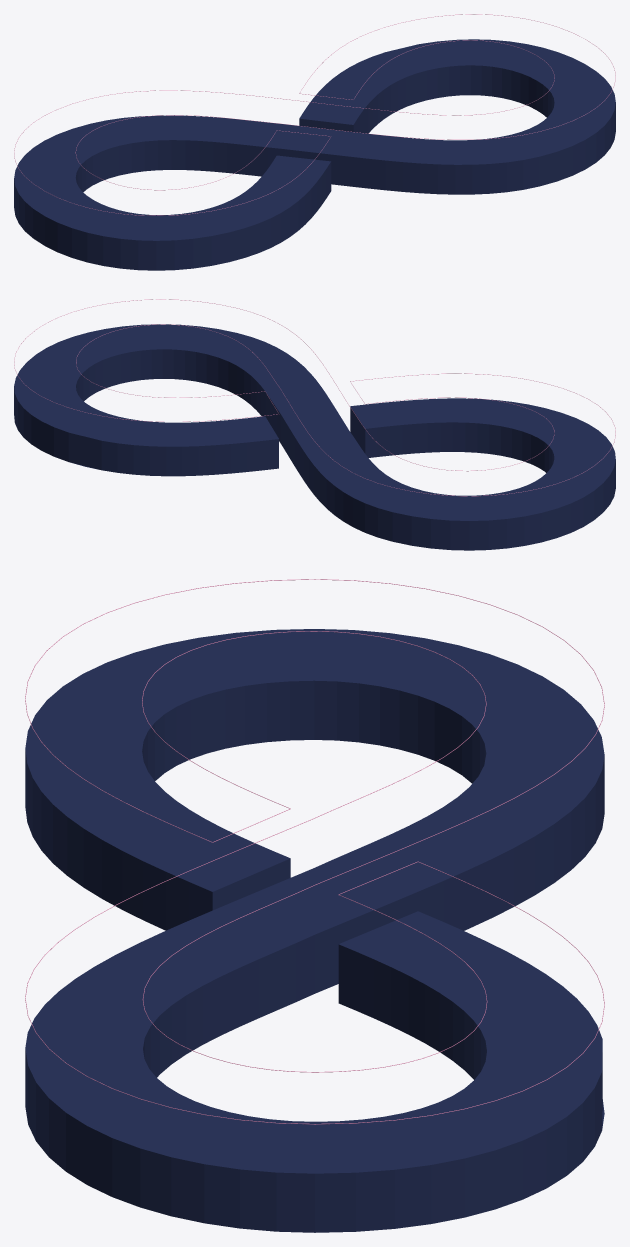
The model's file is Infinity08.gltf.
3 views of the same model, one above another, from view 1: azimuth 30°, elevation 25°; view 2: azimuth 150°, elevation 25°; view 3: azimuth 270°, elevation 25° (orthographic). The views are drawn at different scales.
Visible parts, largest first — view 1: Curve, Curve.001; view 2: Curve, Curve.001; view 3: Curve, Curve.001.
Part boxes in pixels (x1,y1,x2,y2): Curve: (14,39,615,270); Curve.001: (14,14,615,215); Curve: (14,324,615,550); Curve.001: (14,299,615,496); Curve: (25,629,604,1232); Curve.001: (25,579,604,1124).
Size of the model in its own units: 8.87 by 0.8258 by 3.99.
